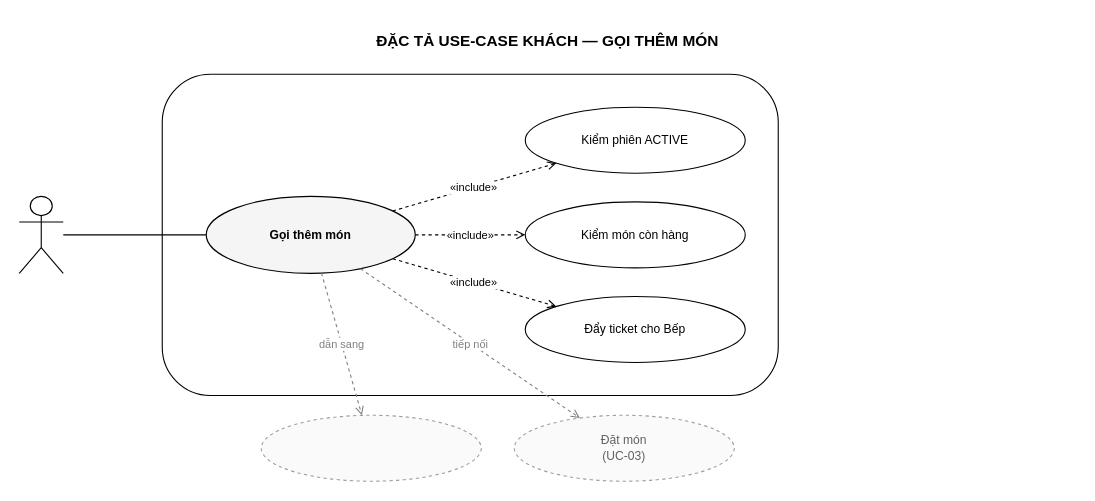
The diagram is 1095 pixels wide and 501 high, and some of its shapes have lost their labels. Each missing label, with the centre of its shape:
"Khách" belongs at pixel 40 234.
"Theo dõi trạng thái món (UC-06)" belongs at pixel 370 447.
